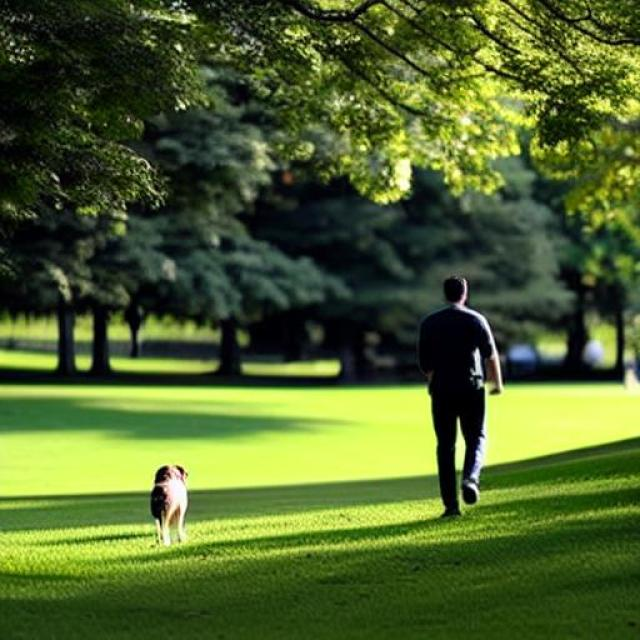Unleashed_Dog: (151, 382, 478, 548)
